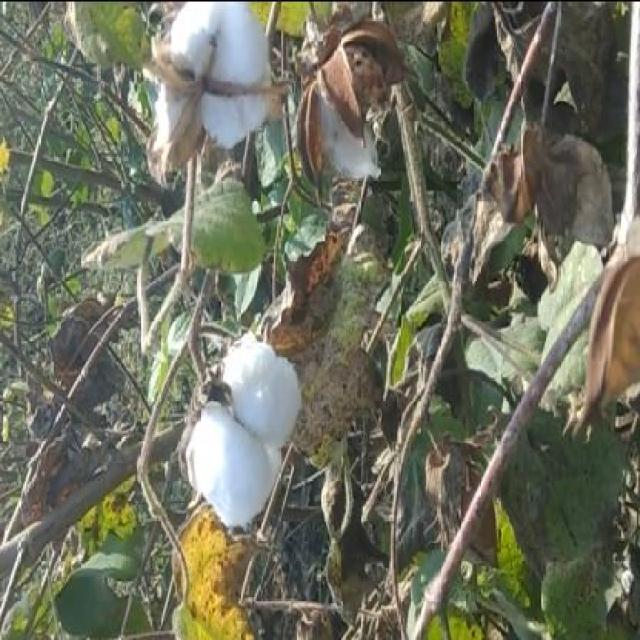cotton_ready: (140, 1, 274, 177)
